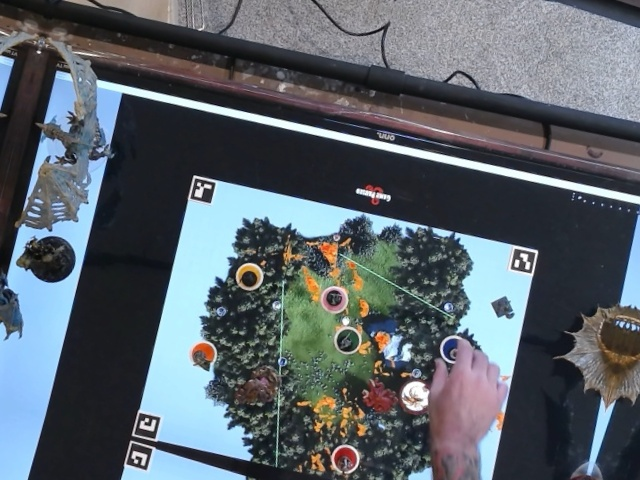blue: (433, 329, 474, 368)
green: (324, 319, 366, 361)
orange: (184, 332, 230, 376)
pink: (314, 279, 352, 317)
red: (324, 435, 366, 479)
yellow: (228, 255, 268, 294)
